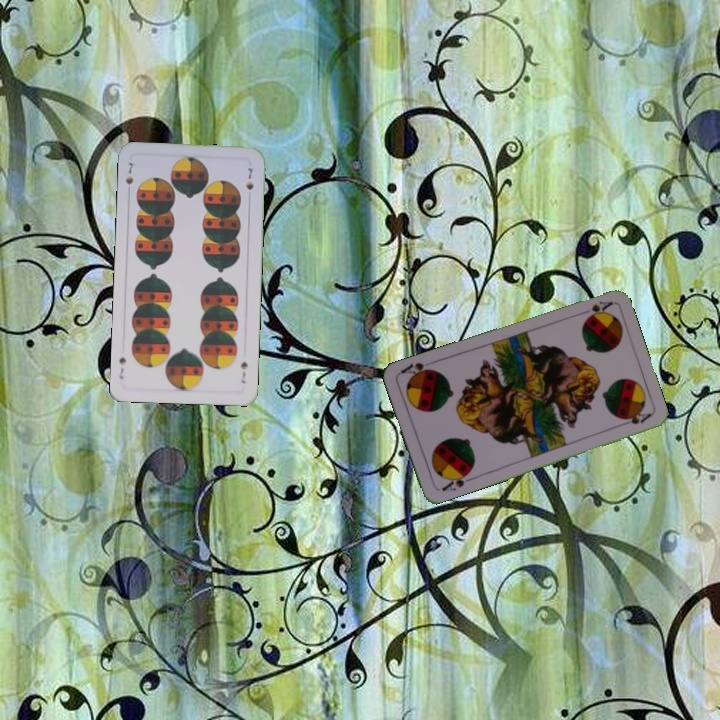S7: (121, 158, 136, 187), (237, 358, 250, 386)
SA: (437, 467, 475, 494), (575, 297, 615, 321)
